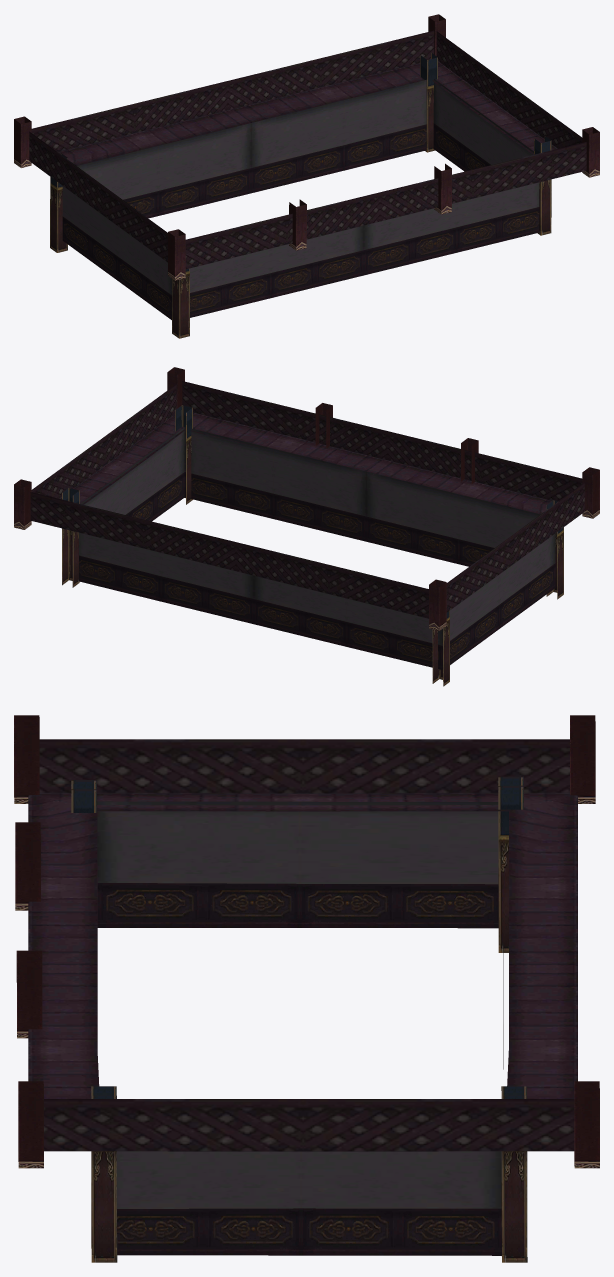
The model's file is Yland2_jz_07 Yland2.FBX.
3 views of the same model, one above another, from view 1: azimuth 30°, elevation 25°; view 2: azimuth 150°, elevation 25°; view 3: azimuth 270°, elevation 25° (orthographic). The views are drawn at different scales.
Parts seen in each view (by area): view 1: Yland2_jz_07 Yland2; view 2: Yland2_jz_07 Yland2; view 3: Yland2_jz_07 Yland2.
Part boxes in pixels (x1,y1,x2,y2): Yland2_jz_07 Yland2: (14,14,599,338); Yland2_jz_07 Yland2: (14,367,599,686); Yland2_jz_07 Yland2: (14,715,599,1262).
Bounding box in the file's own units: 11.59 × 3.08 × 7.65.
